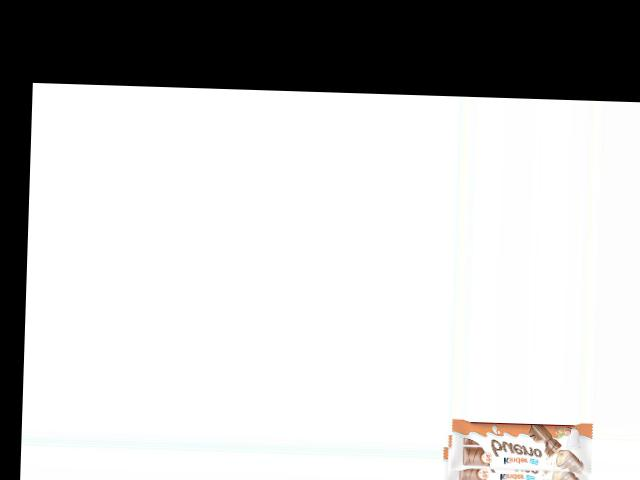chocolate: (442, 417, 589, 480)
